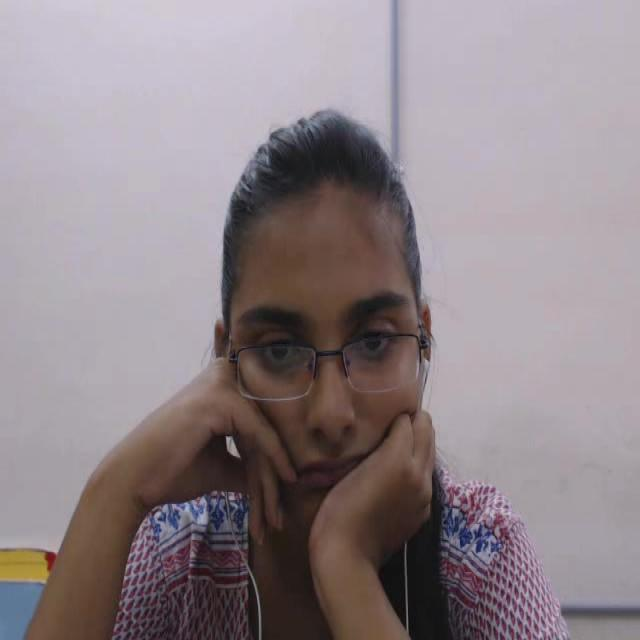Bored: (207, 97, 448, 551)
